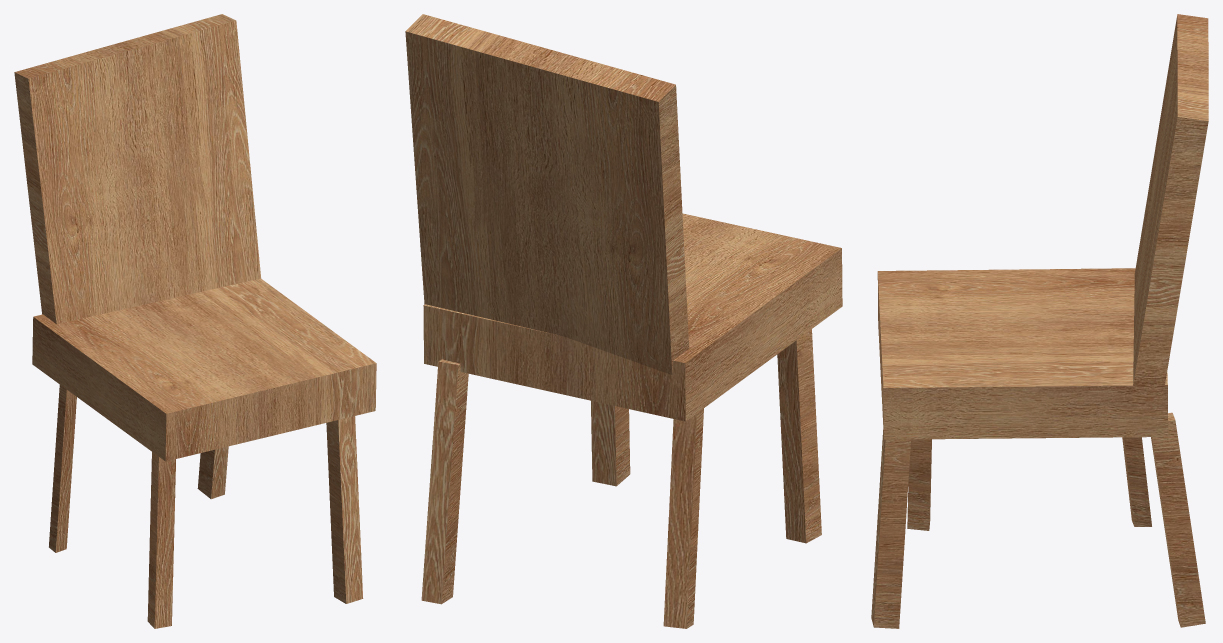
Rendered from 2360_ours.glb.
3 views of the same model, side by side, from view 1: azimuth 30°, elevation 25°; view 2: azimuth 150°, elevation 25°; view 3: azimuth 270°, elevation 25° (orthographic). The views are drawn at different scales.
Parts seen in each view (by area): view 1: ParentEmpty; view 2: ParentEmpty; view 3: ParentEmpty.
Boxes of the visible parts, box(x1,y1,x2,y2) form: ParentEmpty: box(14, 14, 376, 628); ParentEmpty: box(405, 14, 842, 628); ParentEmpty: box(871, 14, 1208, 628).
Size of the model in its own units: 0.4753 by 1 by 0.5895.
1 material, 1 textured.
